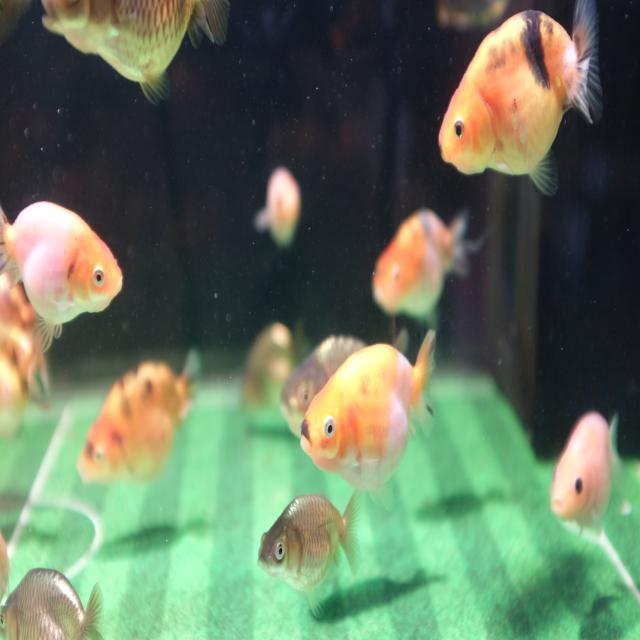Goldfish: (438, 0, 603, 196), (299, 328, 436, 495), (40, 0, 231, 106), (0, 199, 123, 352), (76, 352, 198, 486), (372, 206, 484, 320), (256, 490, 362, 595), (550, 409, 624, 539), (0, 270, 51, 434), (0, 566, 104, 639), (254, 165, 301, 247)
